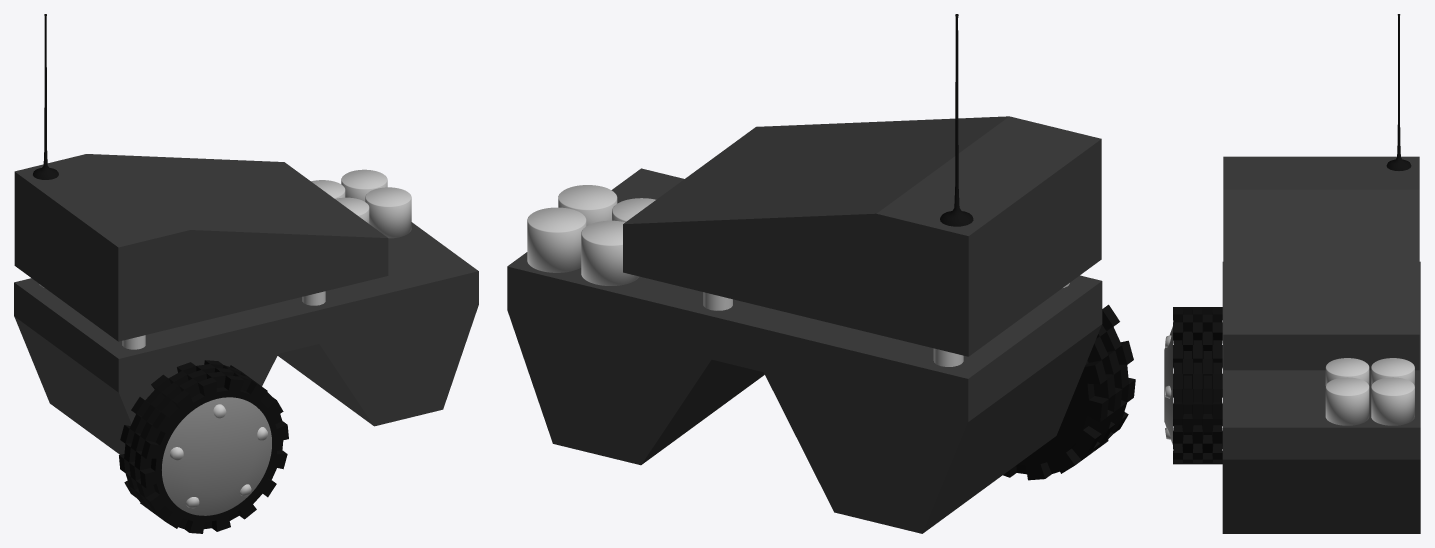
The model's file is Bot.glb.
3 views of the same model, side by side, from view 1: azimuth 30°, elevation 25°; view 2: azimuth 150°, elevation 25°; view 3: azimuth 270°, elevation 25° (orthographic). The views are drawn at different scales.
Visible parts, largest first — view 1: Bot, Wheel; view 2: Bot, Wheel; view 3: Bot, Wheel.
Part boxes in pixels (<box>): Bot: <box>14,14,478,454</box>; Wheel: <box>119,360,288,533</box>; Bot: <box>507,14,1102,533</box>; Wheel: <box>1003,304,1135,480</box>; Bot: <box>1222,14,1420,533</box>; Wheel: <box>1164,307,1222,464</box>.
Size of the model in its own units: 2 by 2.35 by 1.3.
Materials: 1 (1 with a texture image).
